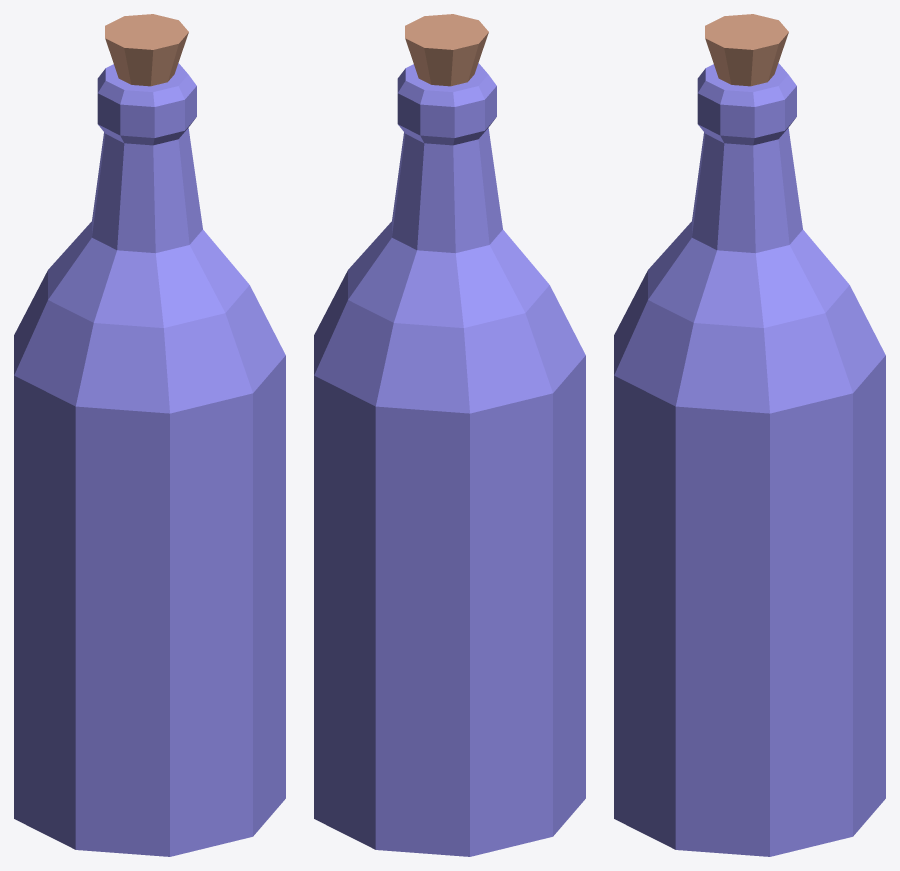
Rendered from VR_Botella.fbx.
3 views of the same model, side by side, from view 1: azimuth 30°, elevation 25°; view 2: azimuth 150°, elevation 25°; view 3: azimuth 270°, elevation 25° (orthographic).
Visible parts, largest first — view 1: botella; view 2: botella; view 3: botella.
Part boxes in pixels (bbox=[...]): botella: bbox=[14, 14, 285, 856]; botella: bbox=[314, 14, 585, 856]; botella: bbox=[614, 14, 885, 856].
Bounding box in the file's own units: 98.48 × 302 × 96.98.
